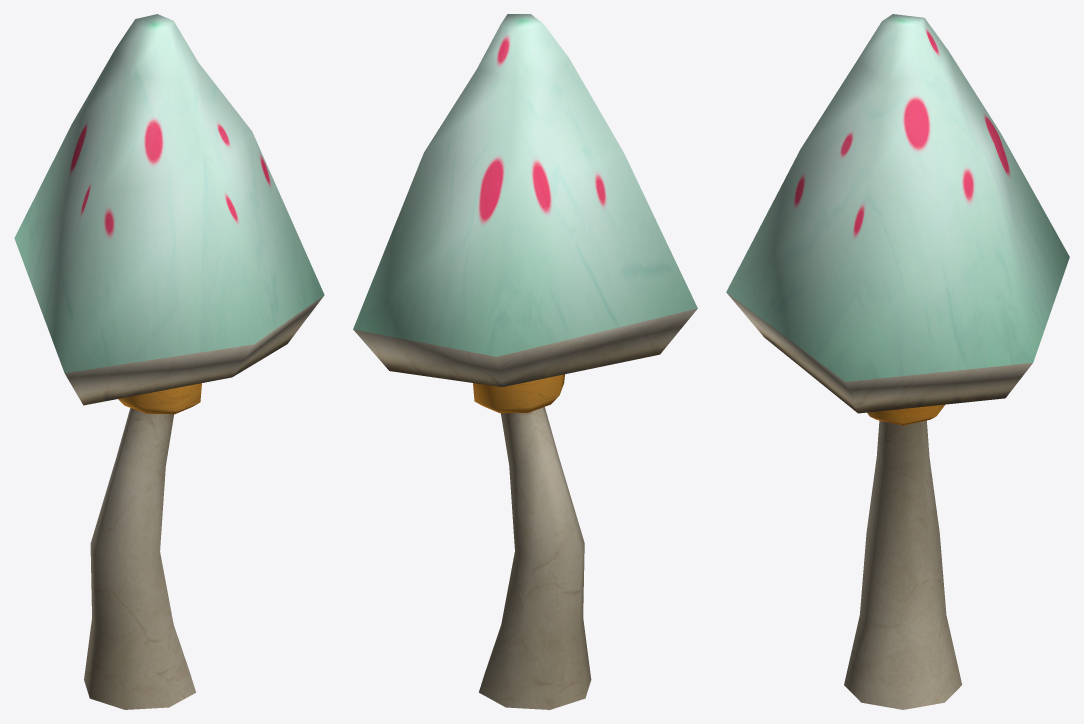
Rendered from mushroom.FBX.
3 renders of one model, left to right at view 1: azimuth 30°, elevation 25°; view 2: azimuth 150°, elevation 25°; view 3: azimuth 270°, elevation 25°, orthographic.
Parts seen in each view (by area): view 1: Mushroom; view 2: Mushroom; view 3: Mushroom.
Boxes of the visible parts, box(x1,y1,x2,y2) form: Mushroom: box(14, 14, 324, 709); Mushroom: box(353, 14, 697, 709); Mushroom: box(726, 14, 1069, 709).
Bounding box in the file's own units: 5.42 × 12.42 × 5.75.
1 material, 1 textured.
